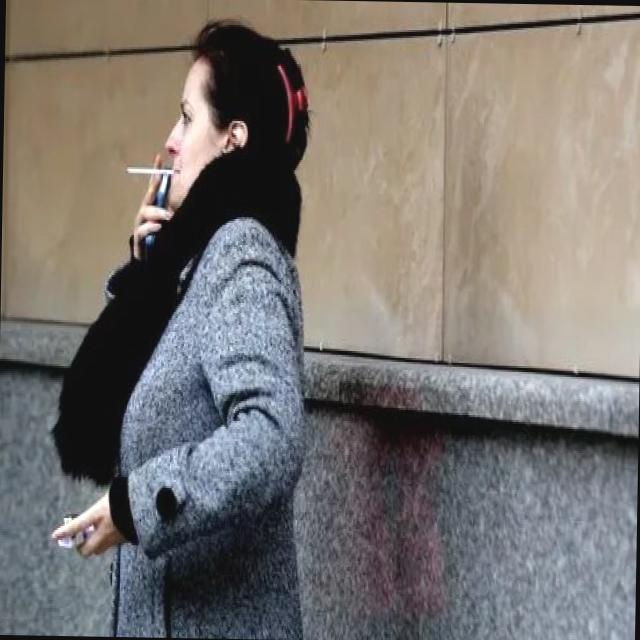smoke: (124, 160, 182, 182)
